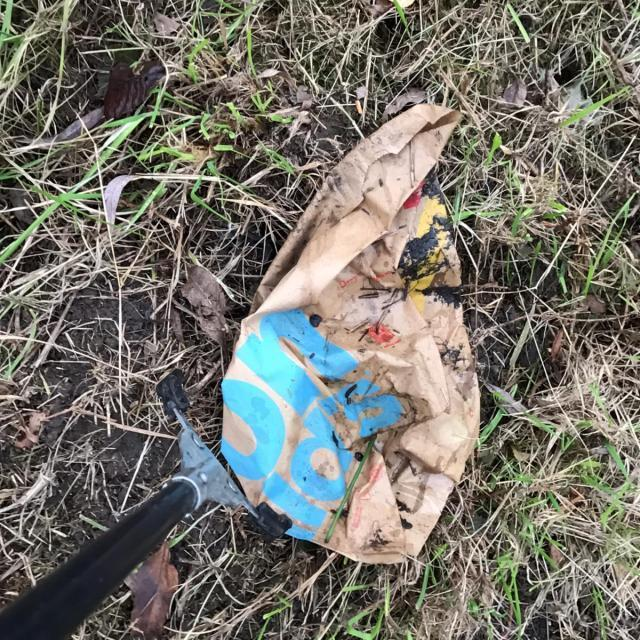Paper: (219, 104, 482, 566)
